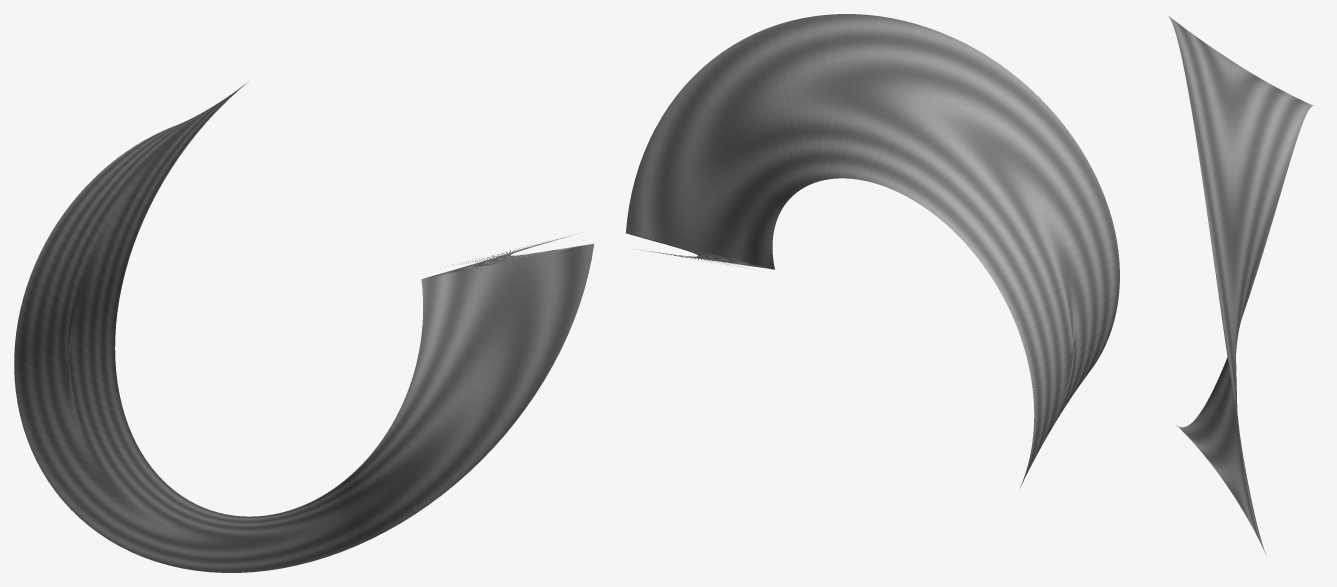
File: mobius-bright.glb
3 renders of one model, left to right at view 1: azimuth 30°, elevation 25°; view 2: azimuth 150°, elevation 25°; view 3: azimuth 270°, elevation 25°, orthographic. The views are drawn at different scales.
Parts seen in each view (by area): view 1: world; view 2: world; view 3: world.
Part boxes in pixels (x1,y1,x2,y2): world: (14, 82, 593, 572); world: (626, 14, 1119, 487); world: (1168, 16, 1313, 553).
Size of the model in its own units: 2.42 by 2.58 by 0.8.
Materials: 1 (1 with a texture image).
